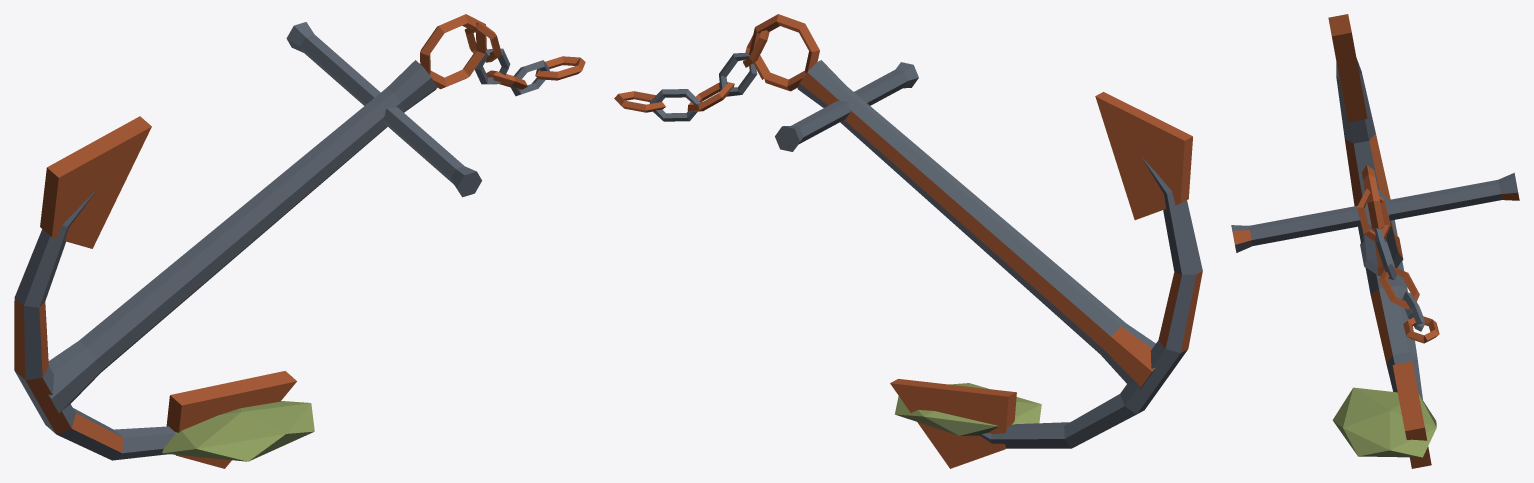
File: anchor.glb
The picture shows the model from 3 angles, left to right: view 1: azimuth 30°, elevation 25°; view 2: azimuth 150°, elevation 25°; view 3: azimuth 270°, elevation 25°; orthographic projection. The views are drawn at different scales.
Visible parts, largest first — view 1: anchor; view 2: anchor; view 3: anchor.
Boxes of the visible parts, left/top/right/bottom form: anchor: left=14, top=14, right=585, bottom=468; anchor: left=614, top=14, right=1202, bottom=468; anchor: left=1231, top=14, right=1519, bottom=468.
Size of the model in its own units: 2.27 by 1.52 by 1.
